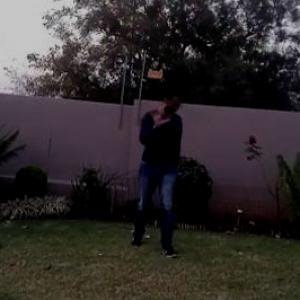follow_hand: (146, 99, 172, 130)
